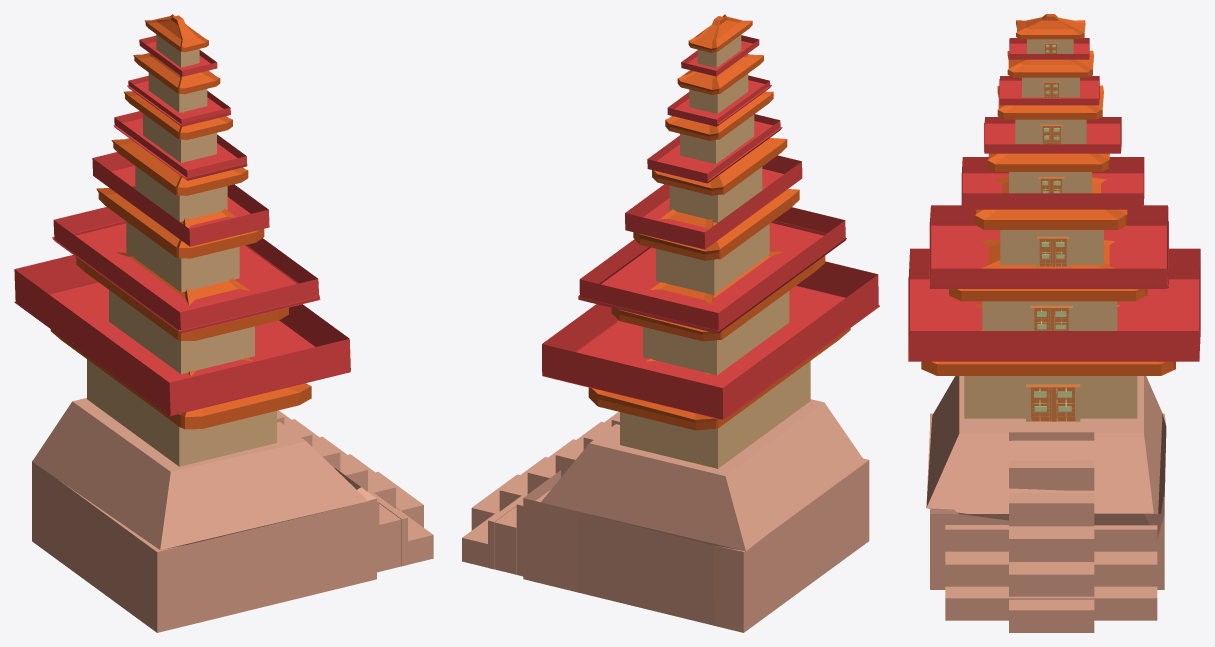
File: Japanse_toren.fbx
The picture shows the model from 3 angles, left to right: view 1: azimuth 30°, elevation 25°; view 2: azimuth 150°, elevation 25°; view 3: azimuth 270°, elevation 25°; orthographic projection. The views are drawn at different scales.
Parts seen in each view (by area): view 1: Cube.049, Plane, Plane.001, Cube.014, Plane.002, Cube.007, Cube, Cube.015, Cube.001, Cube.050, Cube.008, Plane.003 (+12 smaller); view 2: Cube.049, Plane, Plane.001, Cube.014, Plane.002, Cube.007, Cube, Cube.001, Cube.050, Cube.008, Plane.003, Cube.015 (+13 smaller); view 3: Cube.049, Plane, Cube.050, Plane.001, Cube.014, Plane.002, Cube.054, Cube.015, Cube.051, Cube.052, Cube.001, Cube.008 (+18 smaller).
Part boxes in pixels (box(x1,y1,x2,y2)): Cube.049: box(32, 398, 376, 632); Plane: box(14, 255, 350, 416); Plane.001: box(52, 207, 320, 333); Cube.014: box(87, 359, 276, 466); Plane.002: box(92, 152, 269, 246); Cube.007: box(109, 290, 254, 374); Cube: box(126, 221, 239, 292); Cube.015: box(50, 329, 311, 429); Cube.001: box(96, 186, 264, 258); Cube.050: box(277, 410, 423, 527); Cube.008: box(75, 252, 288, 340); Plane.003: box(113, 111, 247, 180); Cube.049: box(523, 399, 869, 632); Plane: box(542, 261, 879, 420); Plane.001: box(578, 207, 846, 333); Cube.014: box(620, 361, 810, 468); Plane.002: box(625, 155, 802, 249); Cube.007: box(643, 291, 789, 375); Cube: box(656, 224, 769, 294); Cube.001: box(633, 187, 799, 260); Cube.050: box(471, 412, 619, 530); Cube.008: box(611, 251, 825, 341); Plane.003: box(647, 114, 782, 183); Cube.015: box(588, 328, 850, 430); Cube.049: box(926, 376, 1166, 589); Plane: box(908, 248, 1200, 361); Cube.050: box(1009, 421, 1094, 632); Plane.001: box(929, 205, 1168, 288); Cube.014: box(964, 376, 1137, 418); Plane.002: box(961, 157, 1144, 209); Cube.054: box(945, 594, 1157, 620); Cube.015: box(921, 304, 1175, 375); Cube.051: box(945, 525, 1157, 551); Cube.052: box(945, 561, 1157, 586); Cube.001: box(974, 177, 1127, 229); Cube.008: box(949, 239, 1147, 301).
Size of the model in its own units: 2665 by 4518 by 2325.
